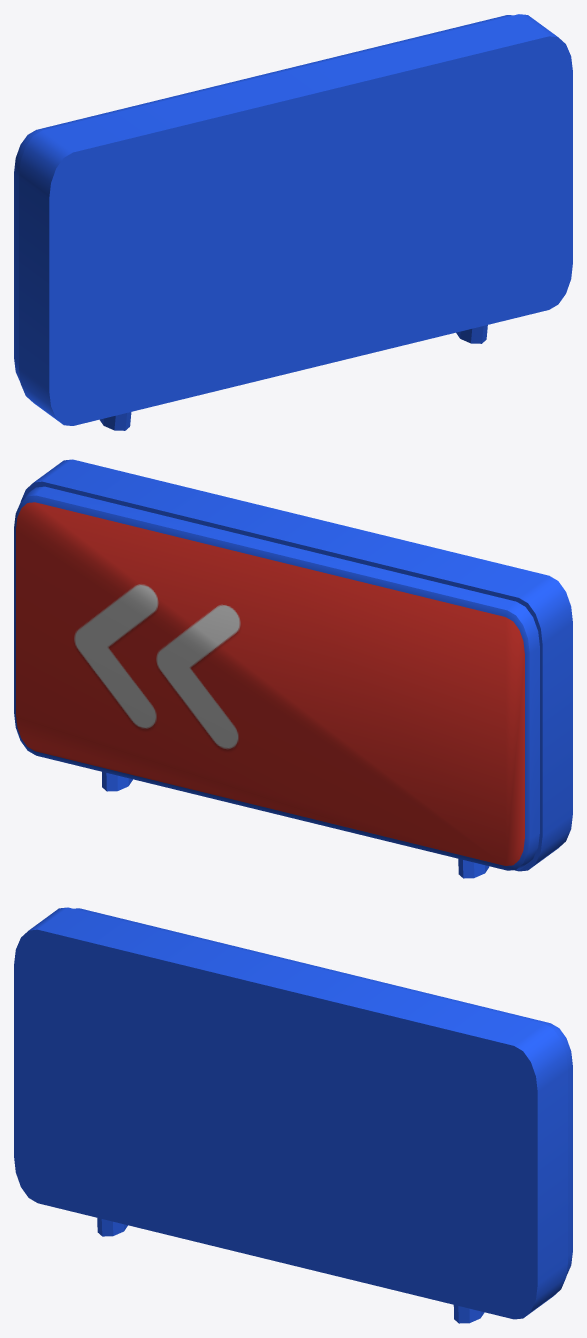
The model's file is obs2.fbx.
3 renders of one model, top to bottom at view 1: azimuth 30°, elevation 25°; view 2: azimuth 150°, elevation 25°; view 3: azimuth 330°, elevation 25°, orthographic.
Parts seen in each view (by area): view 1: oneSideOB; view 2: oneSideOB; view 3: oneSideOB.
Part boxes in pixels (<box>): oneSideOB: <box>14,14,572,430</box>; oneSideOB: <box>14,459,572,878</box>; oneSideOB: <box>14,907,572,1323</box>.
Bounding box in the file's own units: 4.04 × 2.19 × 0.5437.
Materials: 1 (1 with a texture image).
